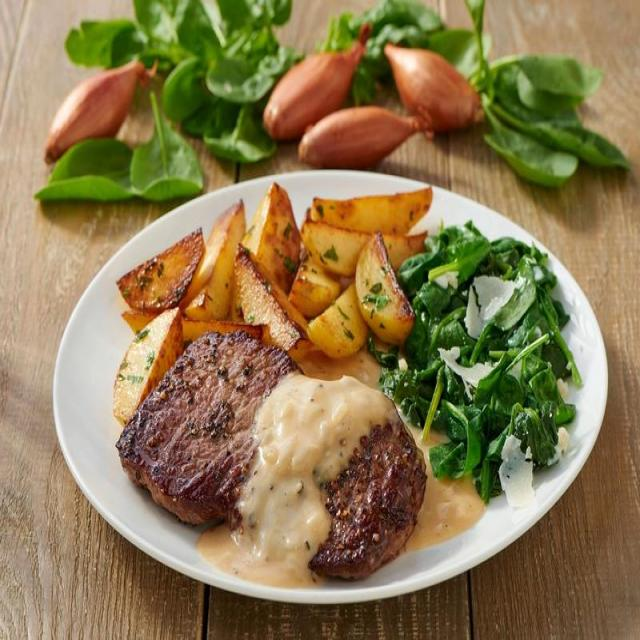non-organic waste: (55, 115, 596, 620)
